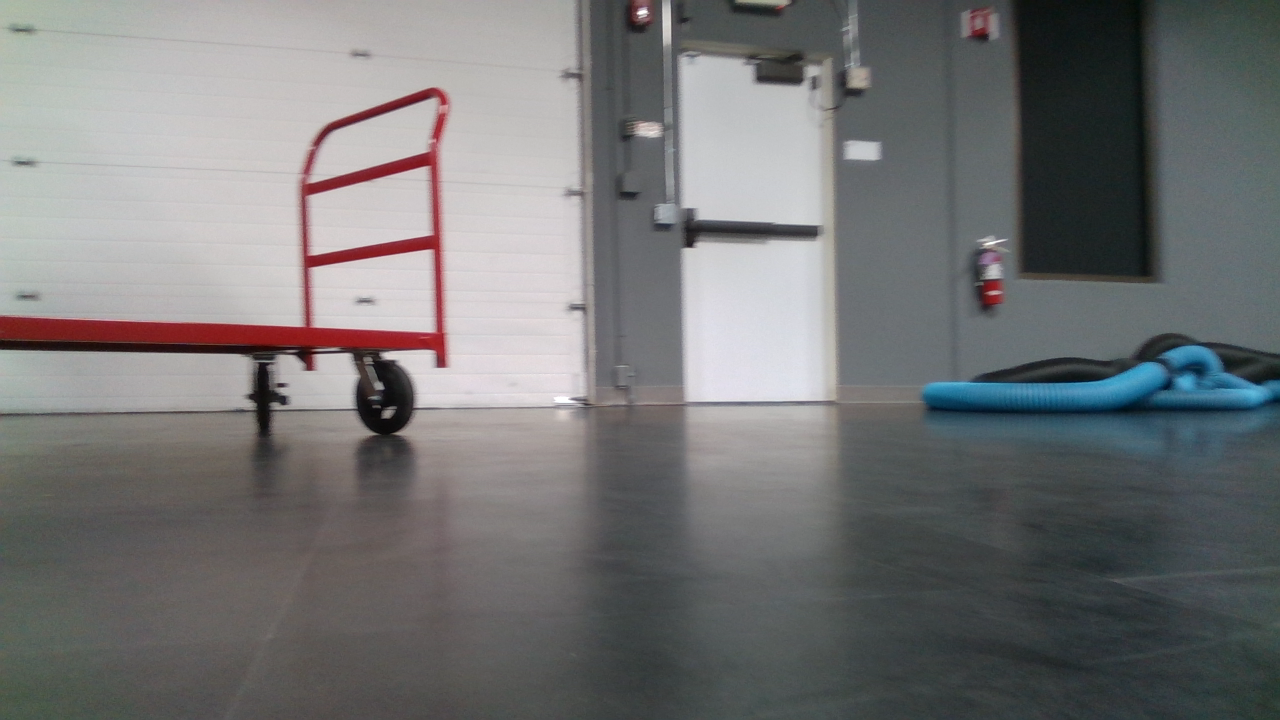Dolly: (0, 85, 454, 437)
Wheel: (353, 359, 416, 434), (248, 362, 277, 428)
